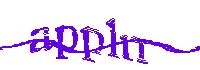a: (29, 27, 51, 52)
l: (105, 15, 121, 61)
n: (121, 34, 151, 66)
p: (79, 25, 103, 65), (55, 24, 76, 61)
